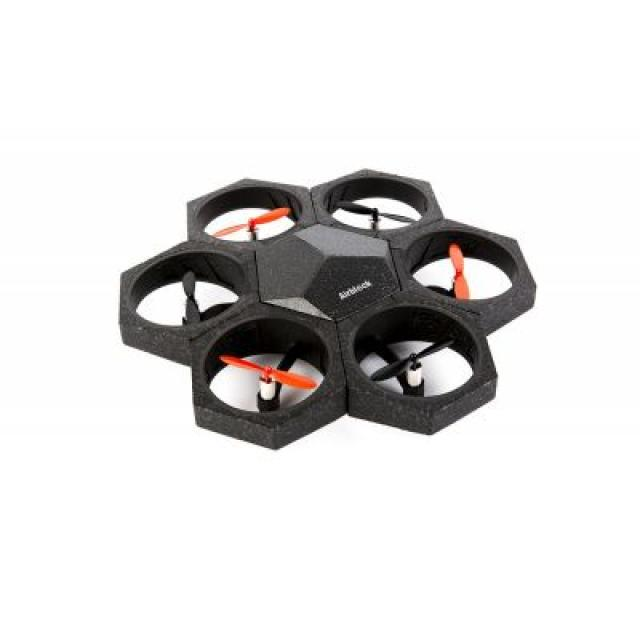drone: (110, 178, 560, 436)
